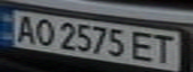2: (54, 19, 78, 52)
5: (106, 26, 130, 59), (72, 21, 93, 54)
7: (90, 24, 109, 56)
A: (9, 12, 39, 44)
E: (127, 29, 160, 63)
O: (30, 16, 57, 47)
T: (148, 33, 181, 65)
